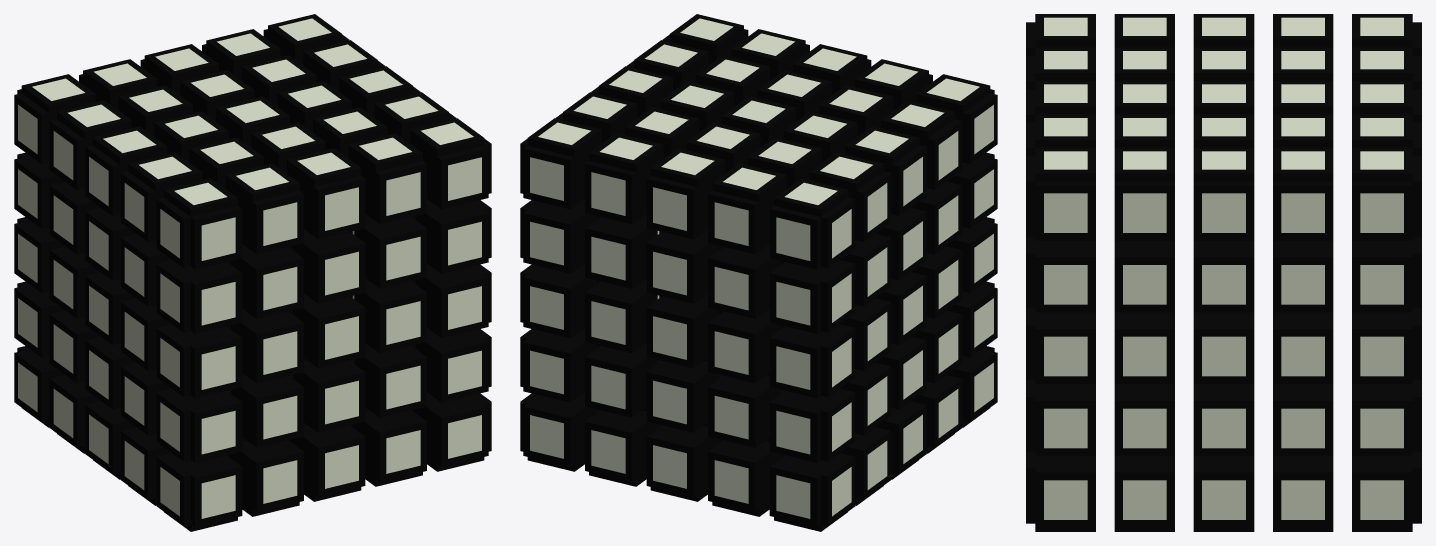
3 views of the same model, side by side, from view 1: azimuth 30°, elevation 25°; view 2: azimuth 150°, elevation 25°; view 3: azimuth 270°, elevation 25° (orthographic). The views are drawn at different scales.
Parts seen in each view (by area): view 1: Cube.022; view 2: Cube.022; view 3: Cube.022.
Part boxes in pixels (x1,y1,x2,y2): Cube.022: (14,14,491,531); Cube.022: (520,14,997,531); Cube.022: (1026,14,1421,531).
Bounding box in the file's own units: 200 × 200 × 200.
